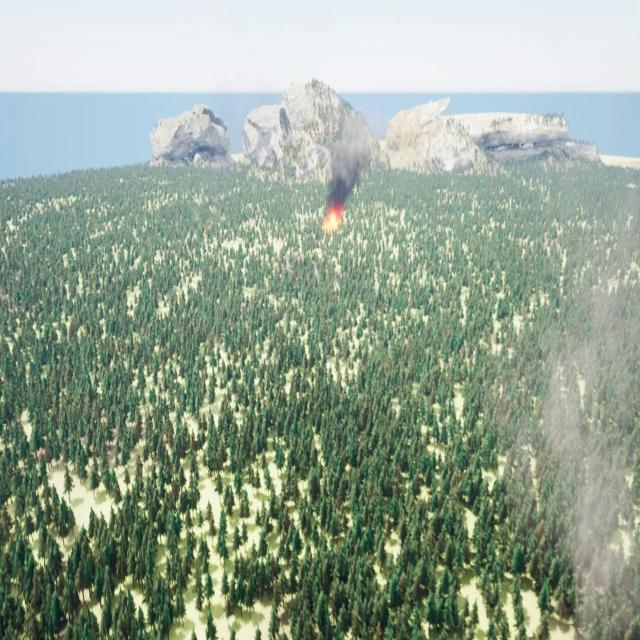fire: (317, 206, 343, 232)
smoke: (478, 207, 639, 639), (327, 115, 376, 206)
